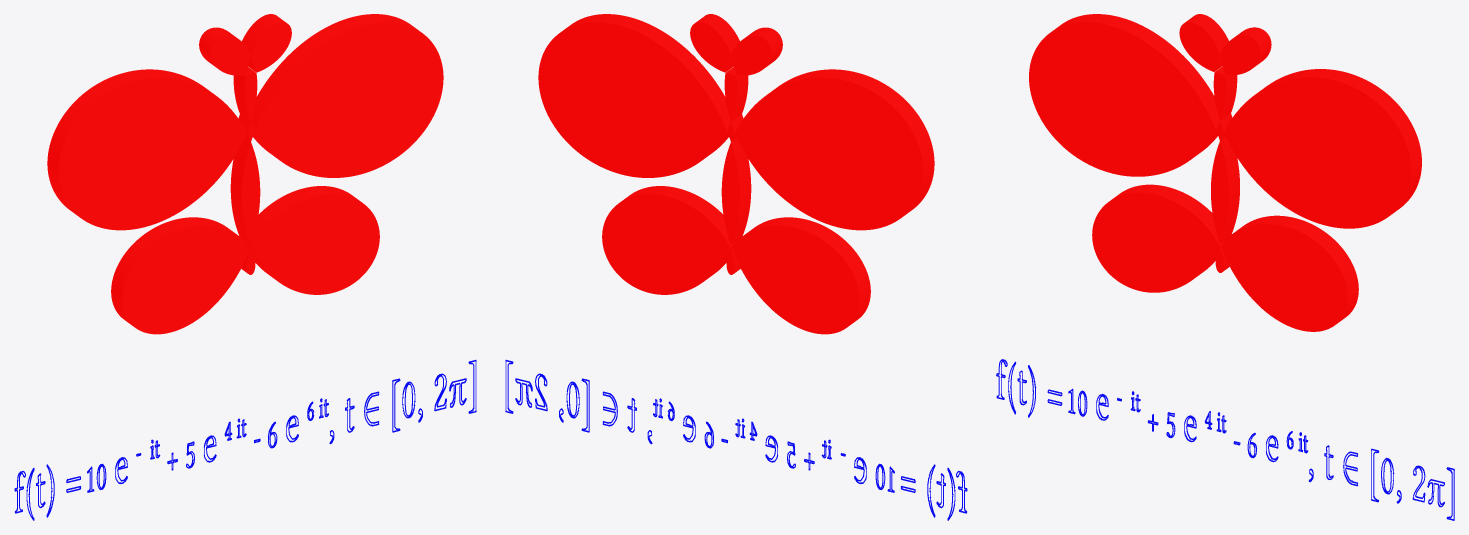
3 renders of one model, left to right at view 1: azimuth 30°, elevation 25°; view 2: azimuth 150°, elevation 25°; view 3: azimuth 330°, elevation 25°, orthographic.
Size of the model in its own units: 1.2 by 1.1 by 0.05.
